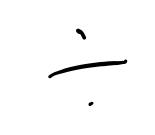div: (46, 29, 124, 106)
